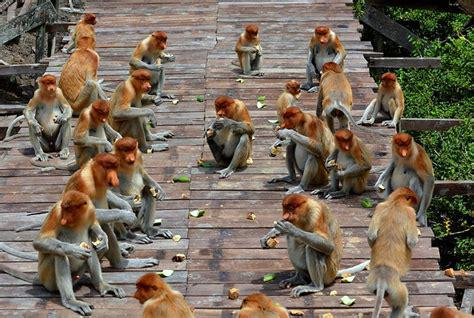monkey: (1, 192, 125, 316), (261, 194, 368, 297), (62, 156, 156, 267), (30, 100, 121, 170), (370, 188, 419, 318), (114, 138, 171, 243), (268, 106, 335, 193), (375, 134, 434, 224), (108, 68, 172, 150), (311, 130, 373, 200), (23, 74, 72, 160), (207, 96, 253, 177), (60, 37, 107, 113), (130, 31, 174, 97), (305, 26, 345, 91), (134, 274, 193, 318), (359, 73, 405, 125), (317, 61, 352, 115), (234, 26, 264, 75), (66, 11, 98, 51)
